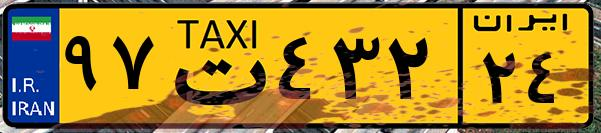2: (385, 28, 445, 110), (475, 38, 525, 113)
3: (330, 28, 385, 110)
4: (270, 28, 330, 110), (525, 38, 570, 115)
7: (110, 28, 158, 98)
9: (57, 26, 110, 100)
ت: (158, 12, 270, 120)
